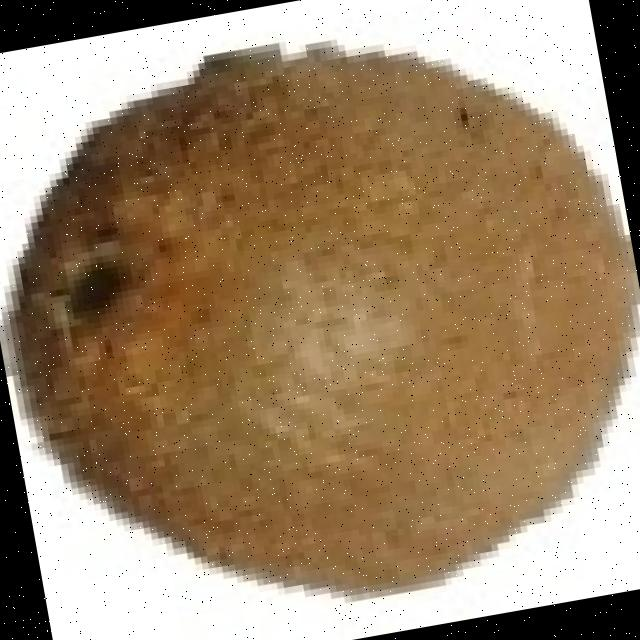kiwi: (25, 60, 640, 600)
